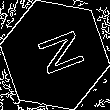N_W: (26, 28, 84, 82)
